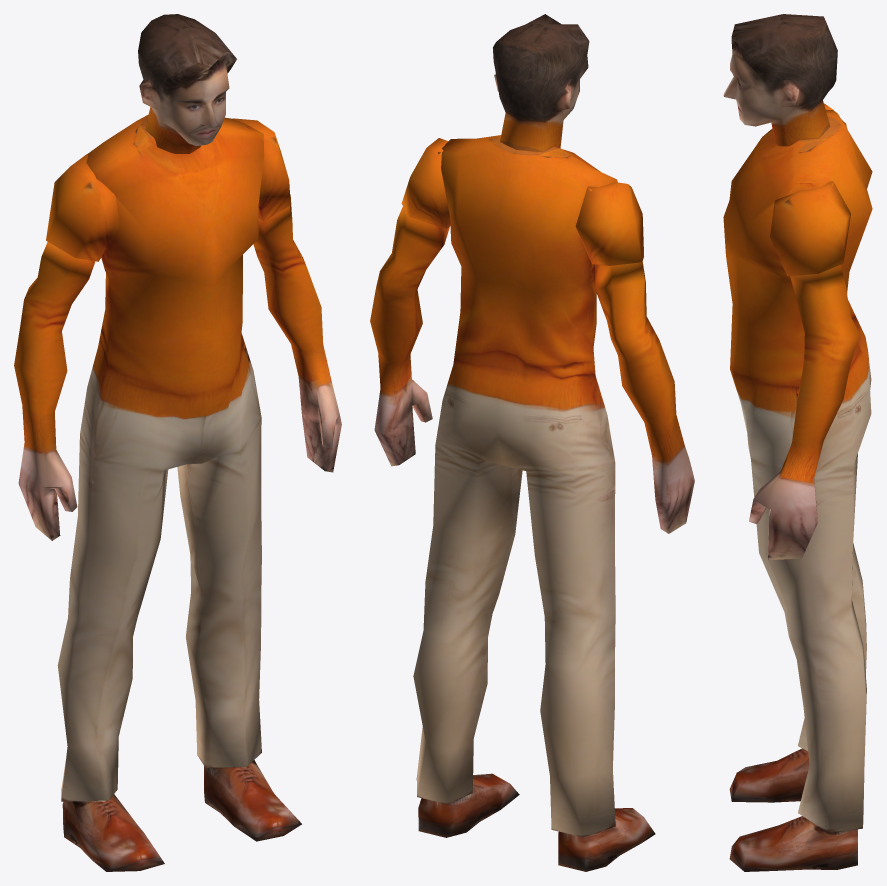
The model's file is TheoAinsleyPSX.fbx.
3 renders of one model, left to right at view 1: azimuth 30°, elevation 25°; view 2: azimuth 150°, elevation 25°; view 3: azimuth 270°, elevation 25°, orthographic.
Parts seen in each view (by area): view 1: Mesh_0; view 2: Mesh_0; view 3: Mesh_0.
Part boxes in pixels (box(x1,y1,x2,y2)): Mesh_0: box(14, 14, 341, 871); Mesh_0: box(370, 14, 694, 871); Mesh_0: box(723, 14, 872, 871).
Bounding box in the file's own units: 77.79 × 200 × 33.54.
1 material, 1 textured.
